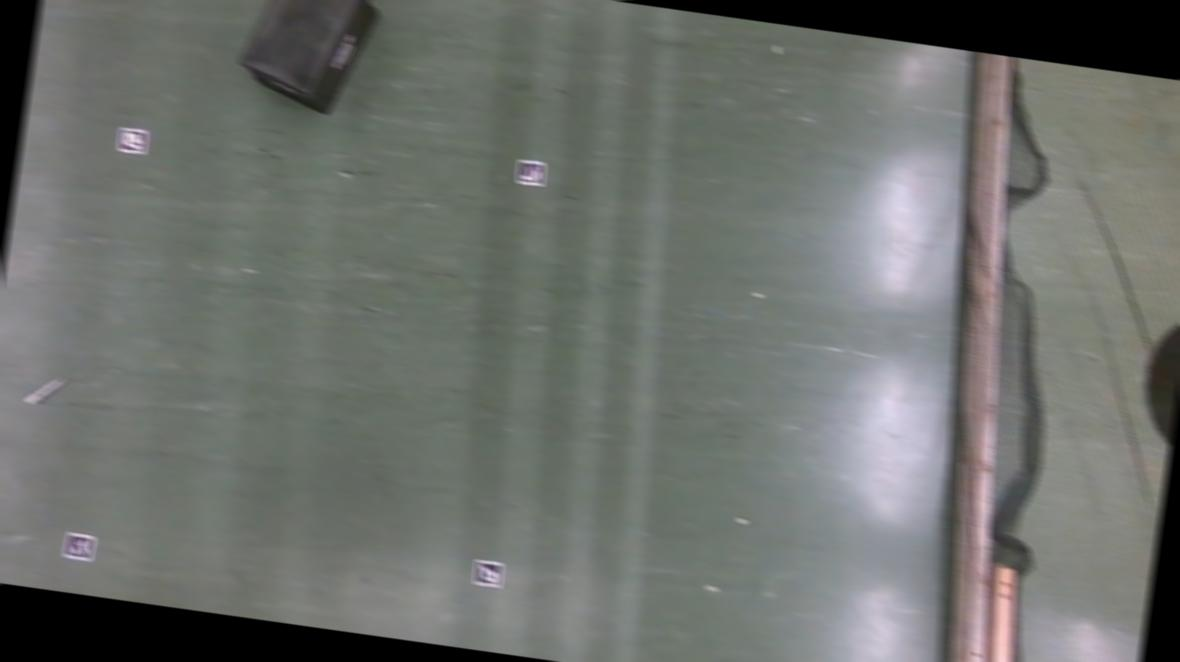probes: (23, 370, 65, 408)
rako: (231, 0, 386, 120)
